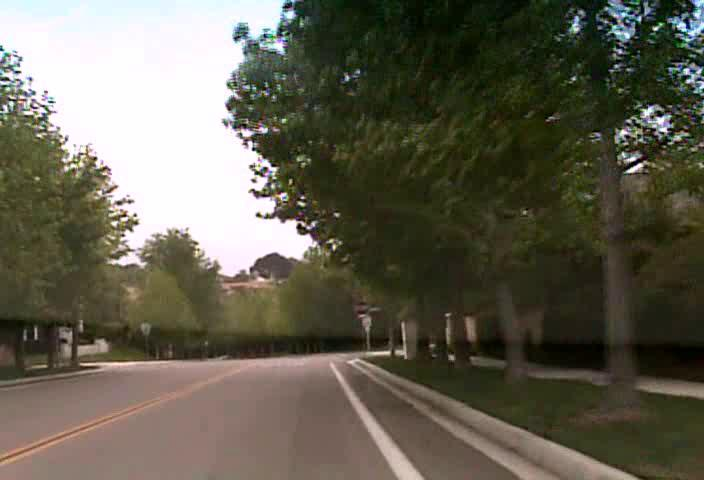stop: (353, 300, 369, 315)
